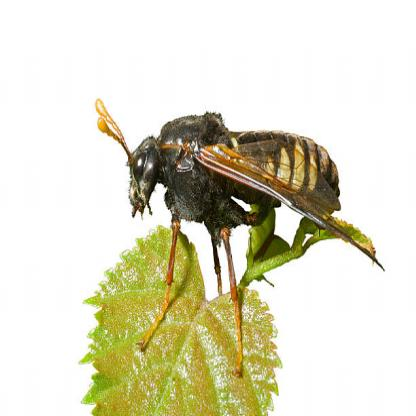sawfly: (90, 93, 381, 382)
